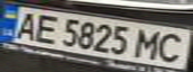2: (93, 20, 115, 54)
5: (57, 16, 81, 48), (112, 24, 136, 56)
8: (75, 19, 96, 52)
A: (9, 9, 42, 40)
C: (151, 30, 190, 63)
E: (27, 11, 63, 44)
M: (133, 27, 166, 61)
